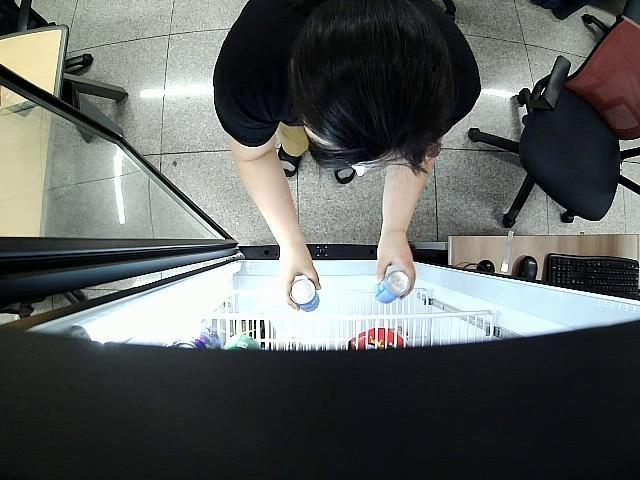15_letsbe: (374, 270, 412, 303), (289, 277, 318, 312)
